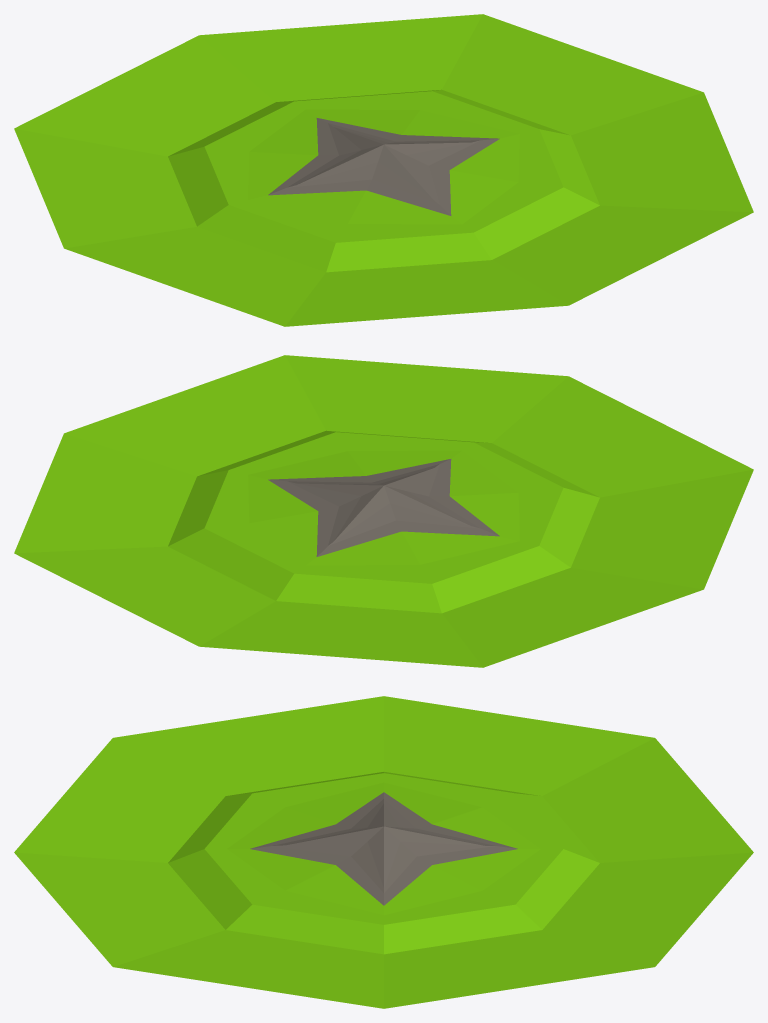
Rendered from Land.fbx.
The picture shows the model from 3 angles, top to bottom: view 1: azimuth 30°, elevation 25°; view 2: azimuth 150°, elevation 25°; view 3: azimuth 270°, elevation 25°; orthographic projection.
Visible parts, largest first — view 1: Land; view 2: Land; view 3: Land.
Boxes of the visible parts, box(x1,y1,x2,y2) form: Land: box(14, 14, 753, 326); Land: box(14, 355, 753, 667); Land: box(14, 696, 753, 1008).
Bounding box in the file's own units: 2645 × 144 × 2645.
